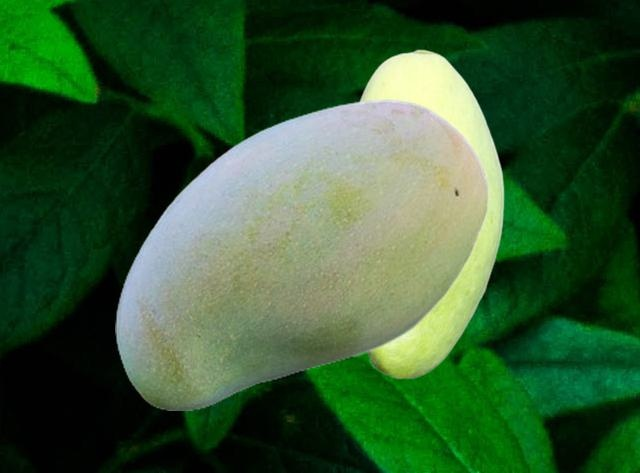green_mango: (115, 99, 489, 409), (358, 49, 503, 378)
